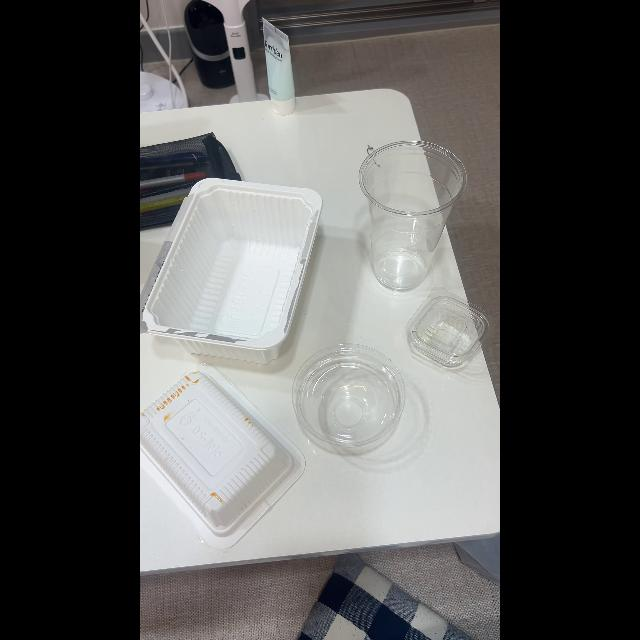clean: (182, 183, 300, 355), (360, 150, 444, 300), (303, 360, 401, 454), (420, 308, 486, 377)
dirty: (140, 366, 290, 538)
